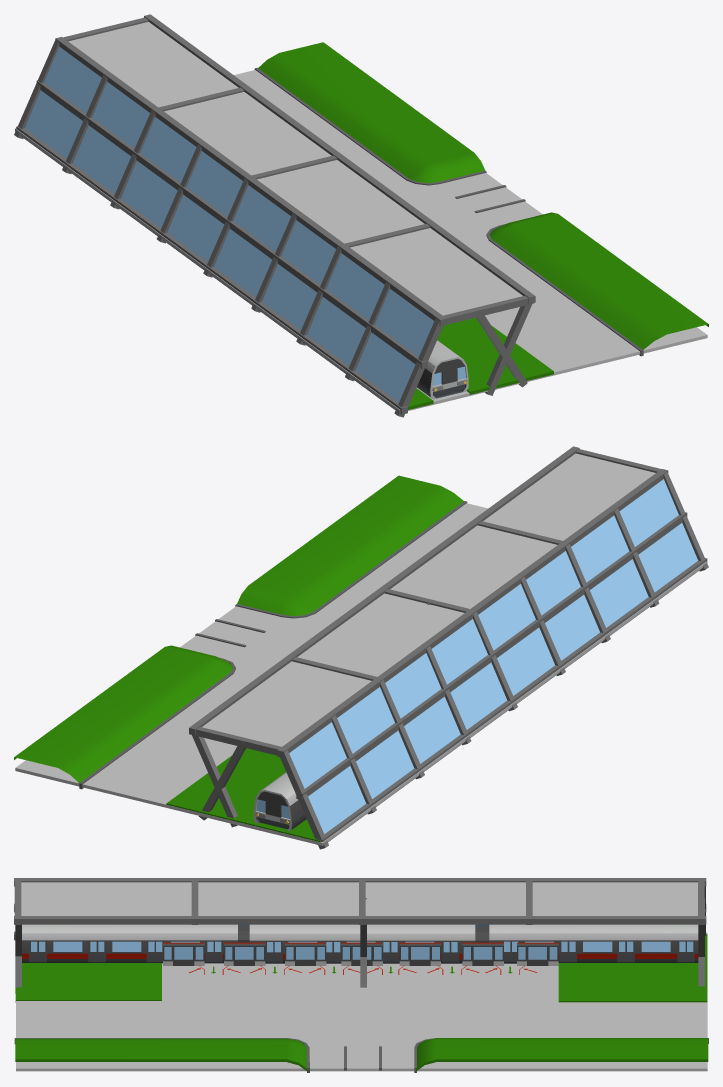
The model's file is Train Start V2.fbx.
The picture shows the model from 3 angles, top to bottom: view 1: azimuth 30°, elevation 25°; view 2: azimuth 150°, elevation 25°; view 3: azimuth 270°, elevation 25°; orthographic projection. The views are drawn at different scales.
Parts seen in each view (by area): view 1: pPlane543, pCube1886, pCube7119, pCube7112, pCube7114, pCube1899, pCube1913, pCube1901, pCube1900, pCube3368, pCube1818, pCube1904 (+13 smaller); view 2: pPlane543, pCube1886, pCube7119, pCube7114, pCube7112, pCube1899, pCube1902, pCube1913, pCube1900, pCube3368, pCube1872, pCube1908 (+13 smaller); view 3: pCube7119, pCube1886, pCube7112, pCube7114, pCube1900, pCube1902, pCube1901, pCube1818, pCube1872, pCube1869, pCube1899, pCube2097 (+20 smaller).
Boxes of the visible parts, x1,y1,x2,y2 form: pPlane543: [25, 46, 434, 401]; pCube1886: [68, 22, 522, 315]; pCube7119: [15, 70, 707, 410]; pCube7112: [258, 42, 485, 183]; pCube7114: [490, 212, 708, 349]; pCube1899: [55, 37, 446, 326]; pCube1913: [36, 80, 427, 368]; pCube1901: [437, 317, 553, 394]; pCube1900: [144, 14, 535, 303]; pCube3368: [16, 126, 407, 414]; pCube1818: [417, 340, 468, 399]; pCube1904: [394, 318, 443, 417]; pPlane543: [289, 479, 697, 833]; pCube1886: [202, 453, 655, 746]; pCube7119: [15, 503, 706, 845]; pCube7114: [237, 475, 463, 616]; pCube7112: [14, 645, 232, 782]; pCube1899: [277, 469, 668, 757]; pCube1902: [166, 748, 320, 841]; pCube1913: [296, 512, 687, 800]; pCube1900: [189, 446, 579, 735]; pCube3368: [316, 558, 707, 846]; pCube1872: [253, 772, 306, 831]; pCube1908: [280, 750, 328, 849]; pCube7119: [16, 934, 707, 1071]; pCube1886: [21, 882, 697, 915]; pCube7112: [416, 1038, 708, 1071]; pCube7114: [15, 1038, 307, 1071]; pCube1900: [14, 916, 706, 924]; pCube1902: [558, 933, 707, 1002]; pCube1901: [15, 963, 161, 1002]; pCube1818: [22, 924, 237, 963]; pCube1872: [489, 924, 698, 963]; pCube1869: [249, 924, 475, 963]; pCube1899: [14, 878, 706, 886]; pCube2097: [224, 943, 265, 965].
Size of the model in its own units: 12.36 by 3.42 by 26.63.
1 material, 1 textured.
